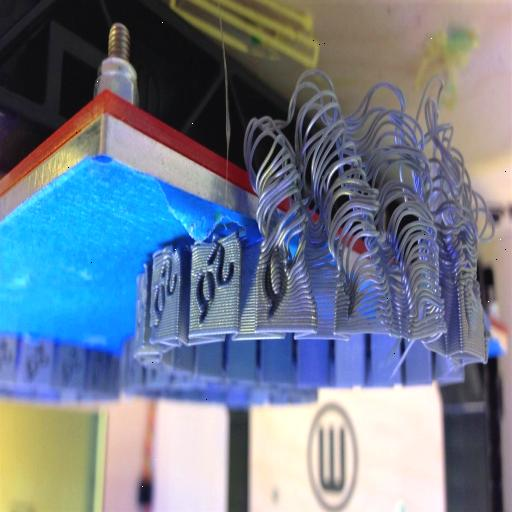spaghetti: (229, 78, 489, 328)
